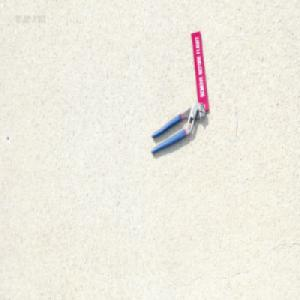Label: (190, 32, 209, 111)
Pliers: (150, 101, 205, 154)
